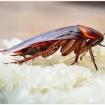cockroach: (6, 24, 104, 62)
